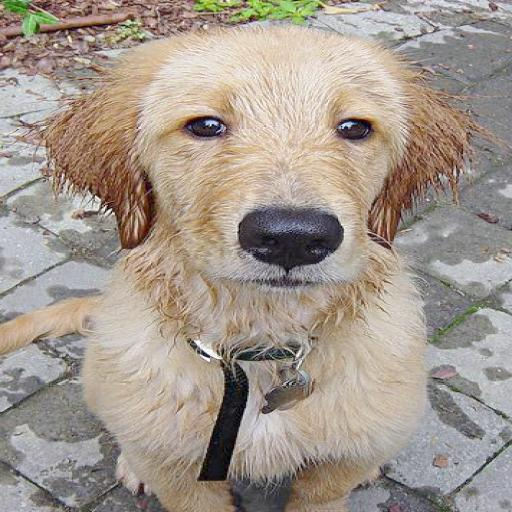dog_face: (73, 35, 448, 275)
